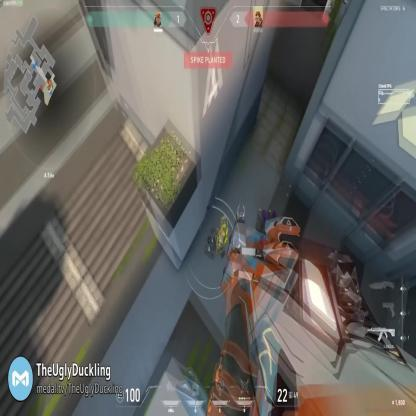enemy: (213, 220, 228, 256)
enemy_head: (221, 230, 225, 237)
